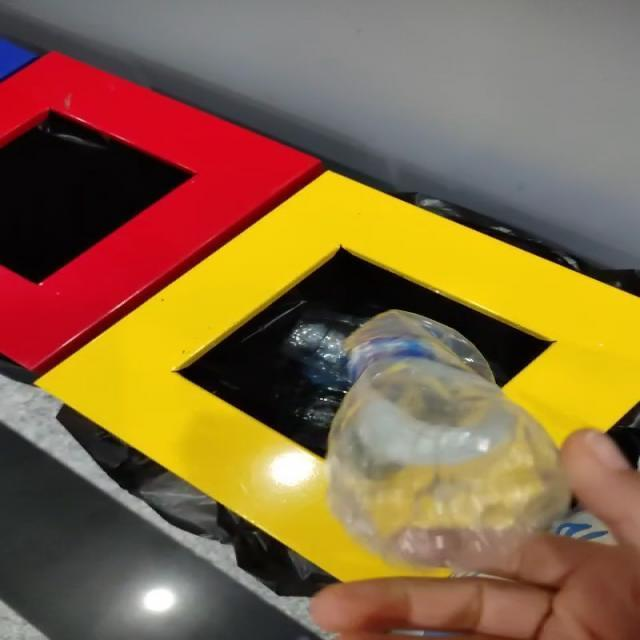Plastic: (329, 310, 569, 575)
